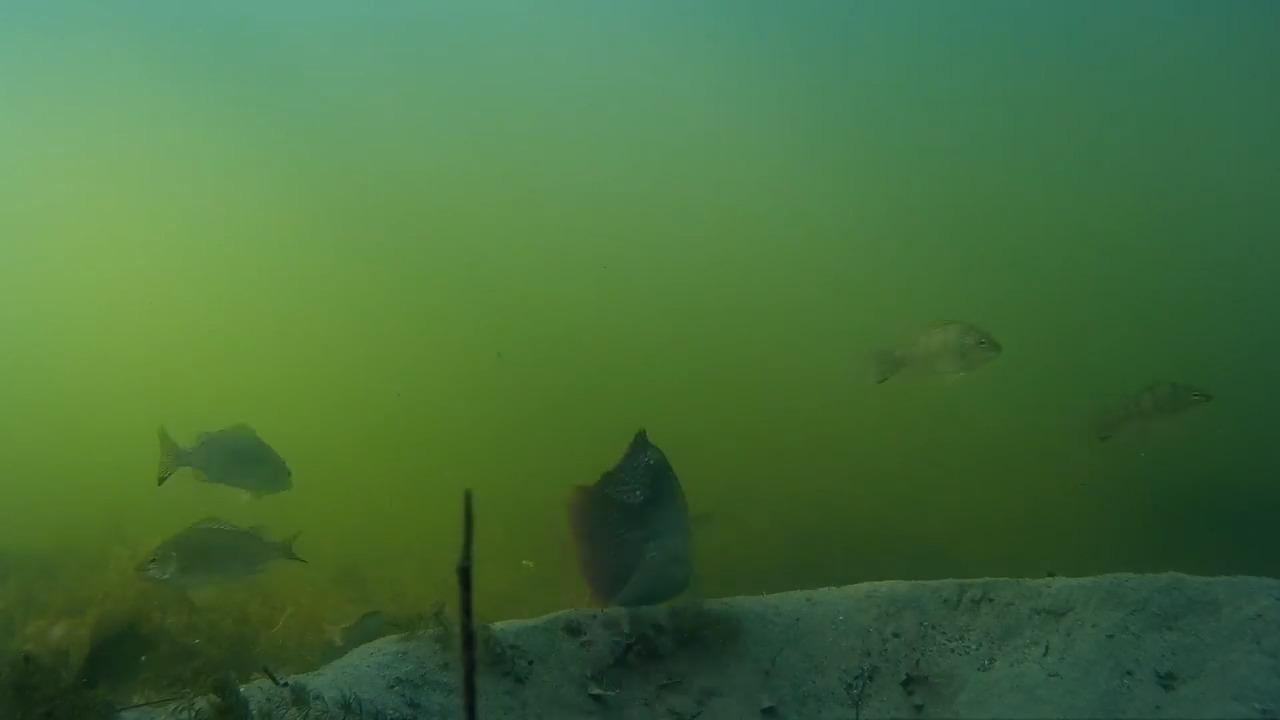Tilapia: (562, 425, 708, 610), (127, 517, 330, 595), (151, 412, 297, 503), (870, 319, 1004, 396), (1082, 376, 1223, 449)
